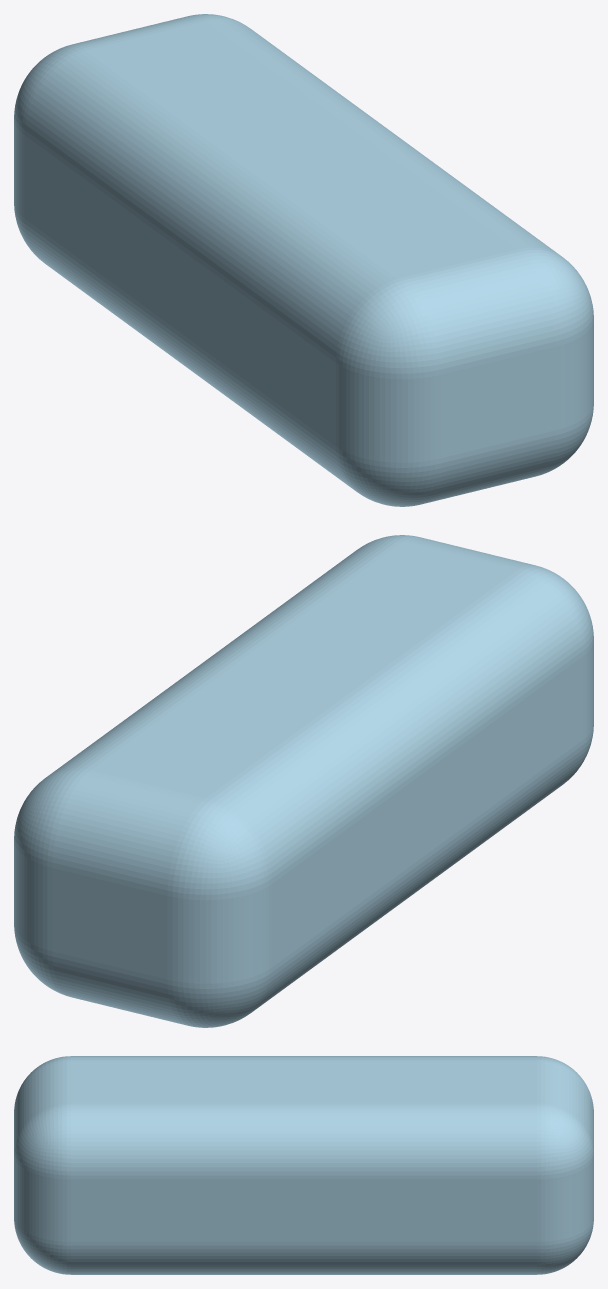
File: Obstacle3.fbx
The picture shows the model from 3 angles, top to bottom: view 1: azimuth 30°, elevation 25°; view 2: azimuth 150°, elevation 25°; view 3: azimuth 270°, elevation 25°; orthographic projection. The views are drawn at different scales.
Visible parts, largest first — view 1: Cube.003; view 2: Cube.003; view 3: Cube.003.
Boxes of the visible parts, x1,y1,x2,y2 form: Cube.003: (14,14,593,506); Cube.003: (14,535,593,1027); Cube.003: (14,1056,593,1274).
Size of the model in its own units: 70 by 60 by 190.
